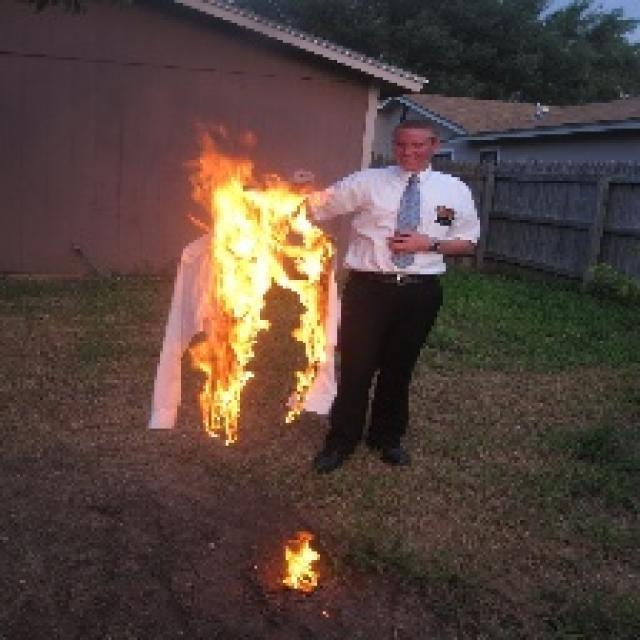fire: (200, 183, 277, 434), (291, 202, 332, 421), (280, 540, 320, 593)
